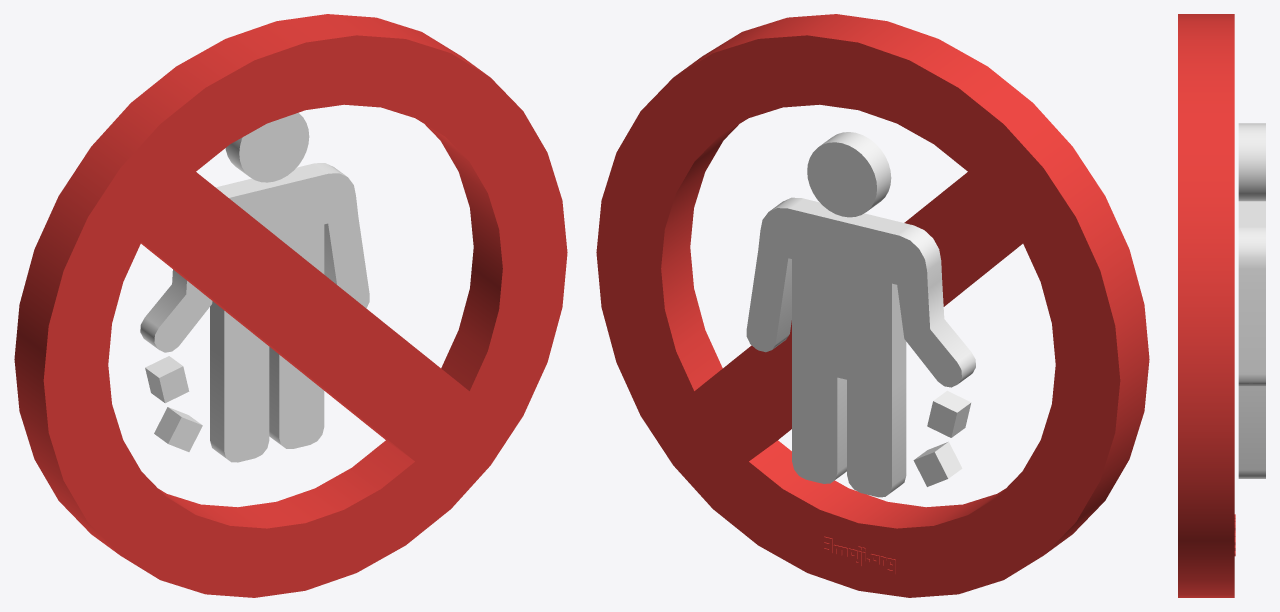
File: no_littering.glb
3 renders of one model, left to right at view 1: azimuth 30°, elevation 25°; view 2: azimuth 150°, elevation 25°; view 3: azimuth 270°, elevation 25°, orthographic. The views are drawn at different scales.
Parts seen in each view (by area): view 1: Circle.2624; view 2: Circle.2624; view 3: Circle.2624.
Part boxes in pixels (x1,y1,x2,y2): Circle.2624: (14, 14, 567, 597); Circle.2624: (596, 14, 1149, 597); Circle.2624: (1178, 14, 1265, 597).
Bounding box in the file's own units: 1.92 × 1.92 × 0.2891.
Materials: 1 (1 with a texture image).
